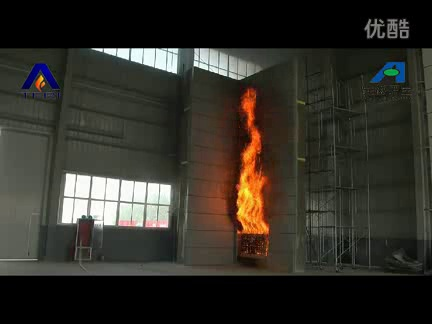fire: (234, 89, 272, 234)
